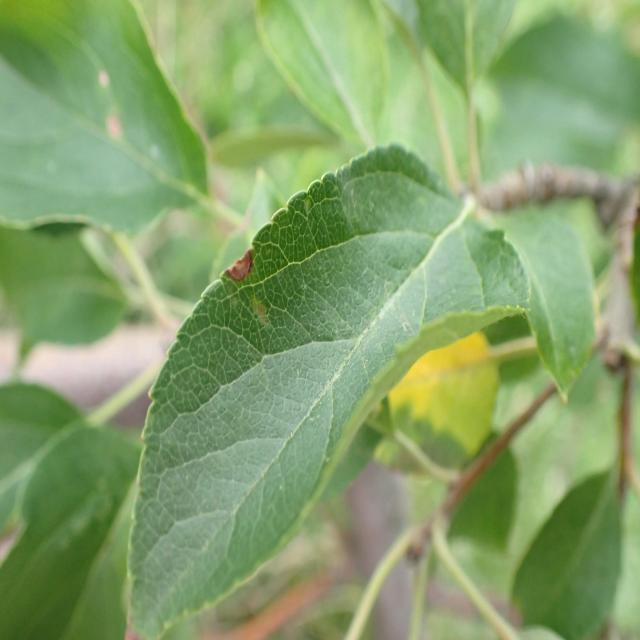Black Rot: (210, 249, 272, 293)
